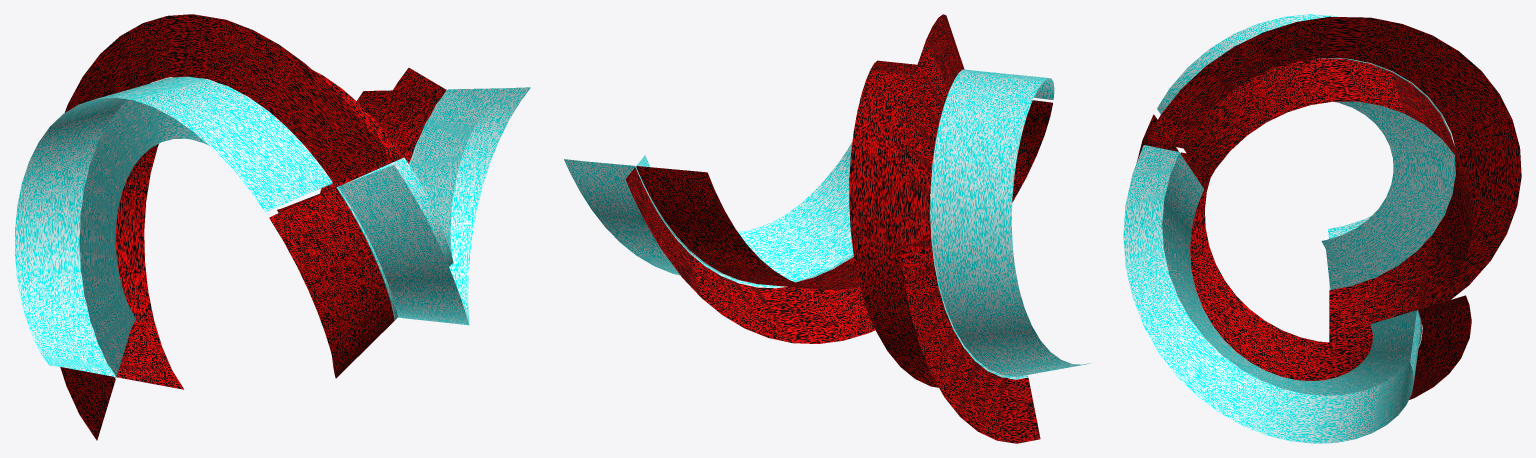
Rendered from SM_Helix_07_HJS.fbx.
3 renders of one model, left to right at view 1: azimuth 30°, elevation 25°; view 2: azimuth 150°, elevation 25°; view 3: azimuth 270°, elevation 25°, orthographic. The views are drawn at different scales.
Parts seen in each view (by area): view 1: SM_Helix_07_HJS; view 2: SM_Helix_07_HJS; view 3: SM_Helix_07_HJS.
Boxes of the visible parts, x1,y1,x2,y2 form: SM_Helix_07_HJS: (15, 14, 530, 440); SM_Helix_07_HJS: (564, 14, 1090, 443); SM_Helix_07_HJS: (1123, 14, 1521, 443).
Size of the model in its own units: 644 by 461 by 429.
